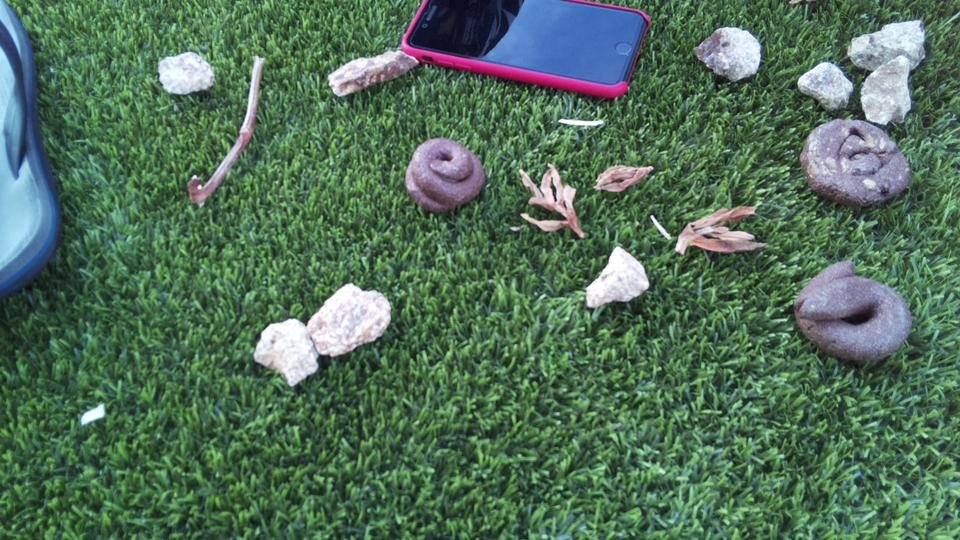poop: (788, 259, 918, 371), (801, 118, 915, 207), (400, 134, 491, 215)
